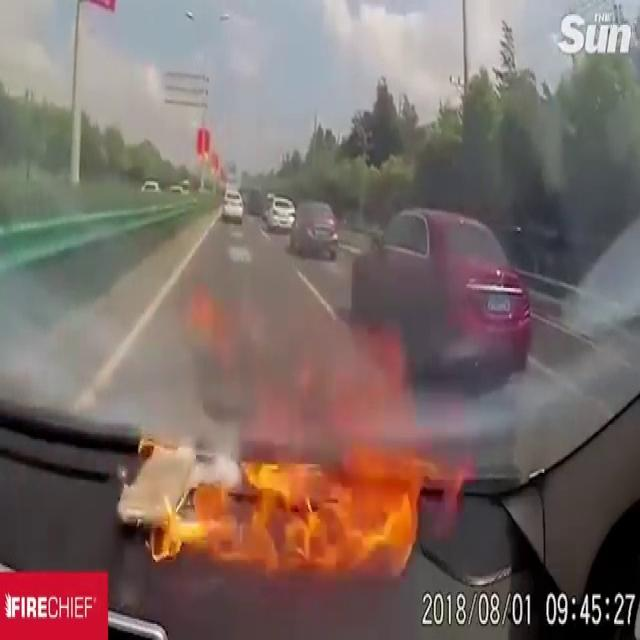fire: (164, 448, 418, 582)
